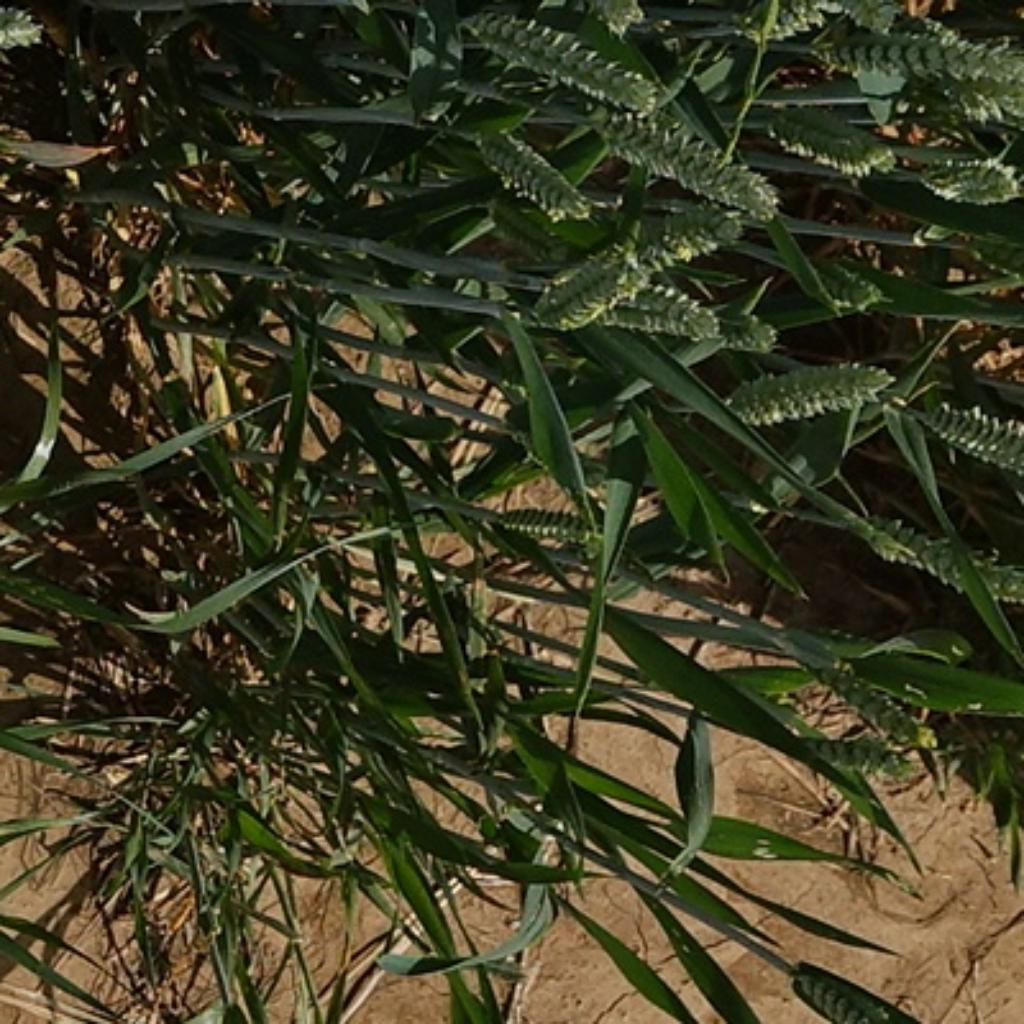0-0: (517, 217, 747, 338), (596, 84, 778, 222), (455, 6, 656, 104), (849, 510, 1018, 605), (465, 115, 591, 217), (814, 658, 944, 756), (719, 353, 896, 424), (821, 25, 1016, 87), (762, 94, 896, 171), (583, 274, 721, 344), (789, 963, 934, 1024), (919, 391, 1018, 476), (796, 729, 919, 793), (911, 145, 1024, 207), (493, 491, 605, 552), (733, 0, 845, 50), (803, 248, 890, 312), (929, 74, 1021, 120), (964, 228, 1024, 290), (0, 0, 53, 56), (837, 0, 907, 37), (711, 312, 780, 348), (0, 811, 2, 926)
